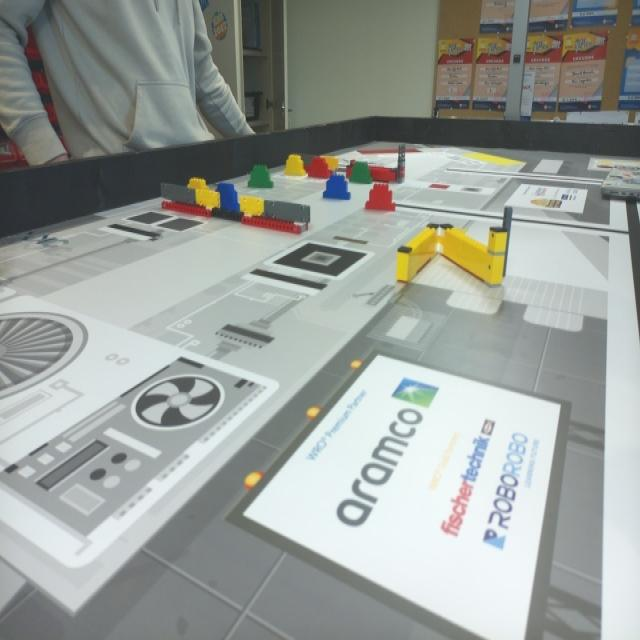blau: (217, 184, 238, 208), (325, 181, 349, 200)
gruen: (249, 167, 273, 190), (349, 163, 372, 185)
rot: (364, 182, 395, 212), (309, 160, 330, 178)
yellow: (284, 157, 305, 177), (182, 178, 208, 186)
